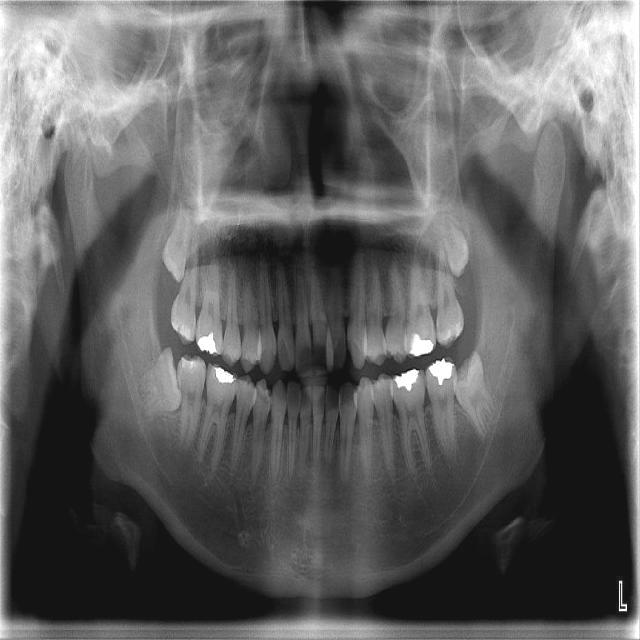Filling: (409, 330, 436, 359), (430, 357, 453, 388), (394, 368, 420, 393), (197, 330, 220, 355), (215, 367, 239, 385), (178, 358, 203, 371)
impacted tooth: (456, 350, 498, 439), (139, 348, 182, 416), (441, 211, 472, 280), (163, 205, 190, 284)
